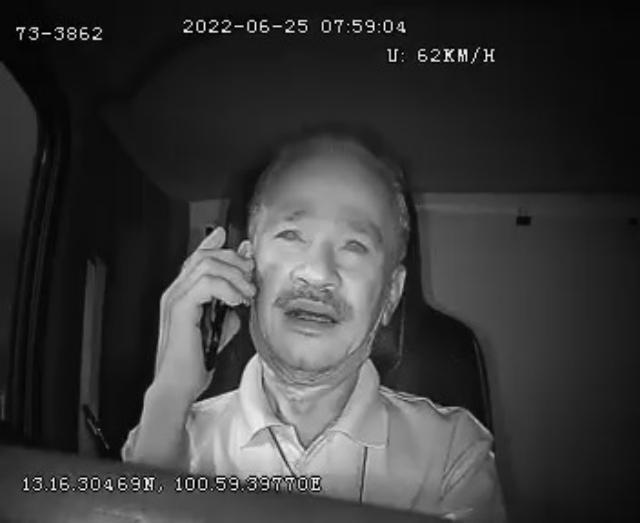PhoneUse: (192, 220, 234, 374)
SafeDriving: (332, 224, 377, 266), (266, 213, 312, 251)
